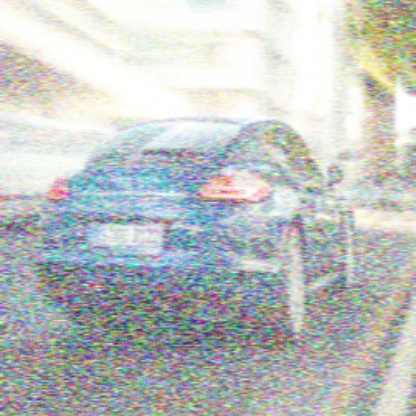Vehicle: (35, 116, 356, 346)
